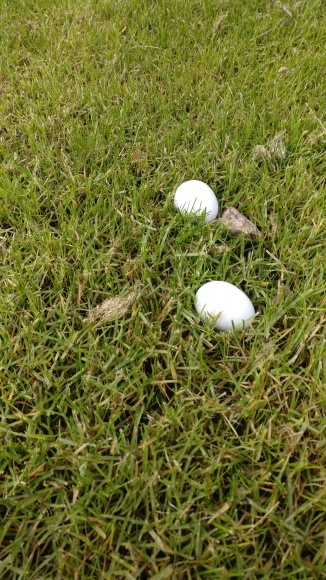egg: (193, 279, 258, 334), (173, 179, 219, 224)
